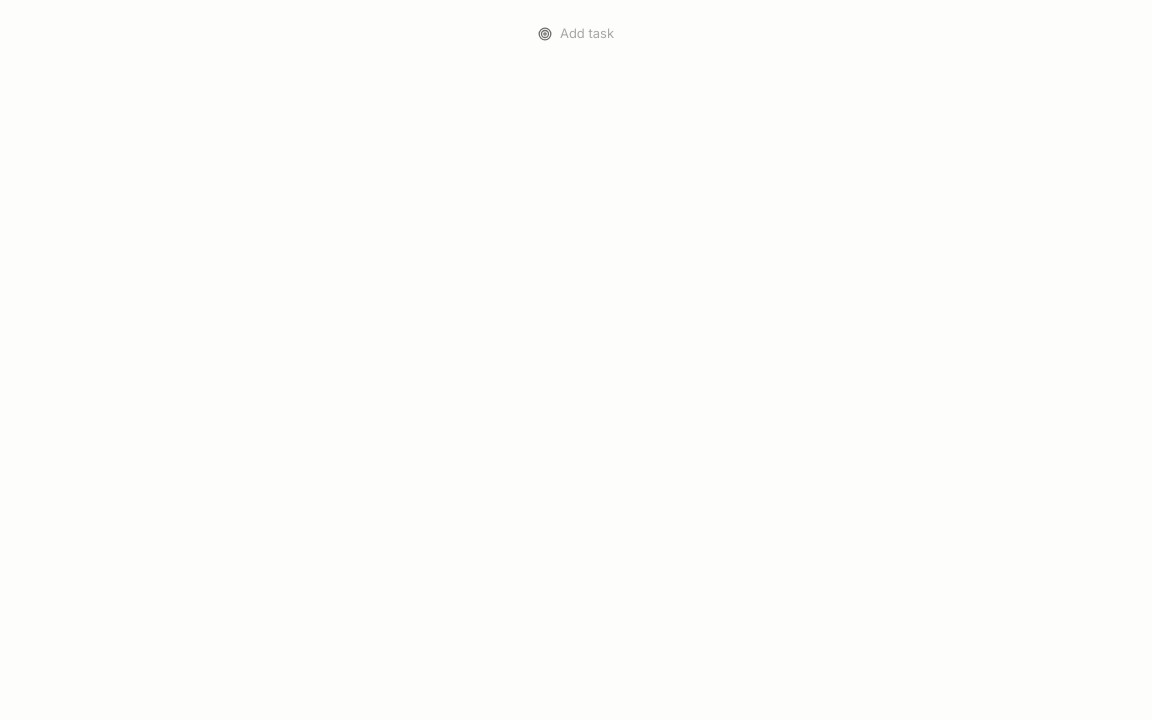
Scenario: FocusTaskPicker › shows today's tasks in the picker
This screenshot has width=1152, height=720.
// Chip tap to open picker
Click the button with aria-label "Select focus task": (576, 34) [526, 16, 626, 52]
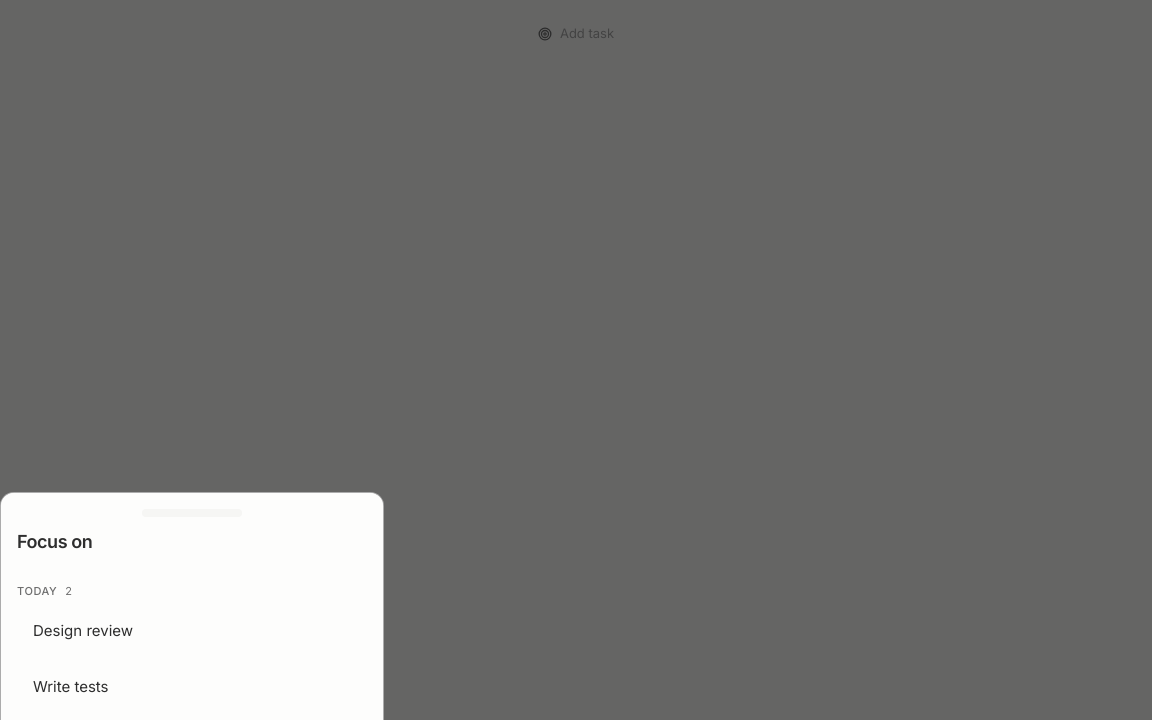
Expected: the text "Design review" is shown, [33, 621, 133, 640]
Expected: the text "Write tests" is shown, [33, 677, 108, 696]
